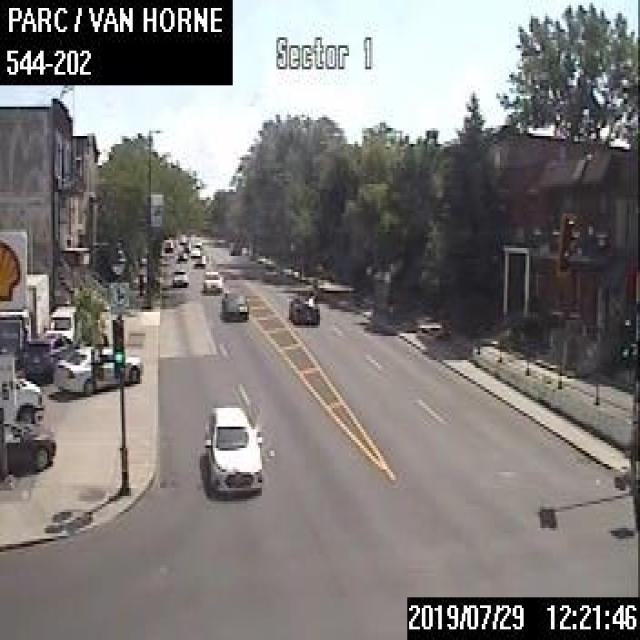vehicle: (199, 400, 264, 499), (52, 344, 142, 394), (0, 270, 47, 353), (0, 355, 44, 421), (24, 330, 79, 381), (3, 419, 54, 472), (48, 302, 78, 344), (287, 293, 319, 324), (220, 288, 249, 320), (201, 269, 223, 291), (170, 267, 188, 284), (192, 252, 205, 265), (174, 247, 187, 260)
